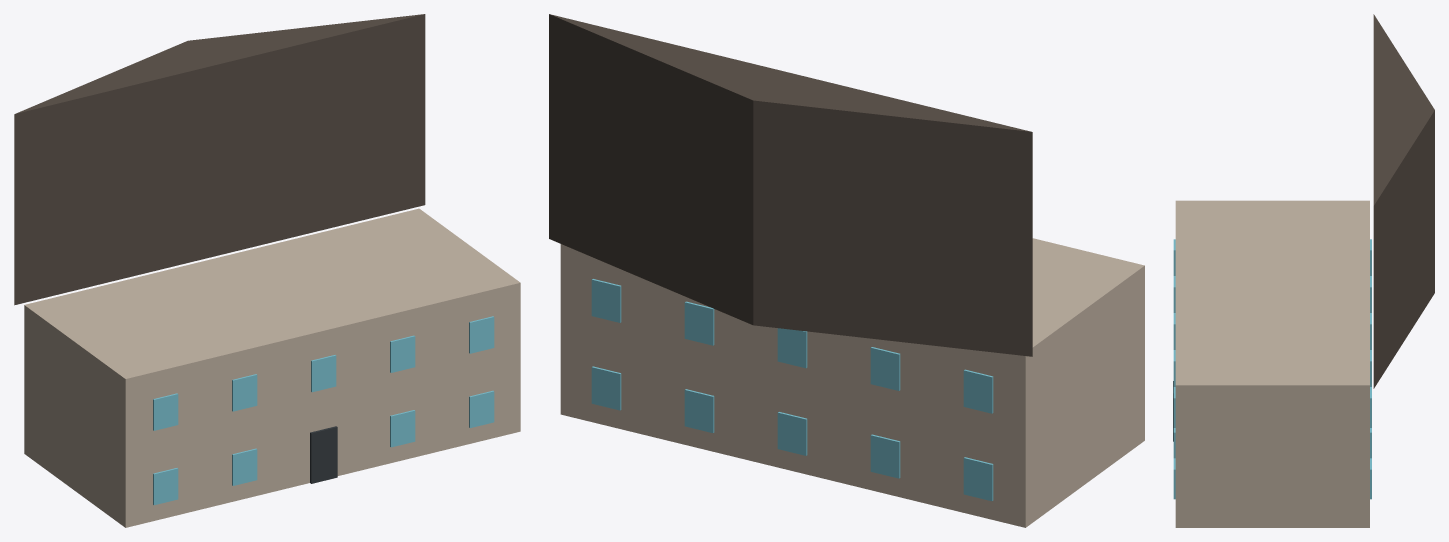
The model's file is row_house_01.glb.
The picture shows the model from 3 angles, left to right: view 1: azimuth 30°, elevation 25°; view 2: azimuth 150°, elevation 25°; view 3: azimuth 270°, elevation 25°; orthographic projection. The views are drawn at different scales.
Parts seen in each view (by area): view 1: body, roof, win (×9), door; view 2: roof, body, win (×10); view 3: body, roof.
Part boxes in pixels (x1,y1,x2,y2): body: [24, 208, 520, 527]; roof: [14, 14, 425, 305]; win (×9): [153, 316, 494, 505]; door: [310, 426, 337, 483]; roof: [549, 14, 1032, 356]; body: [560, 238, 1144, 527]; win (×10): [591, 279, 993, 501]; body: [1175, 200, 1369, 527]; roof: [1373, 14, 1434, 388].
Size of the model in its own units: 18.72 by 14.8 by 10.79.
